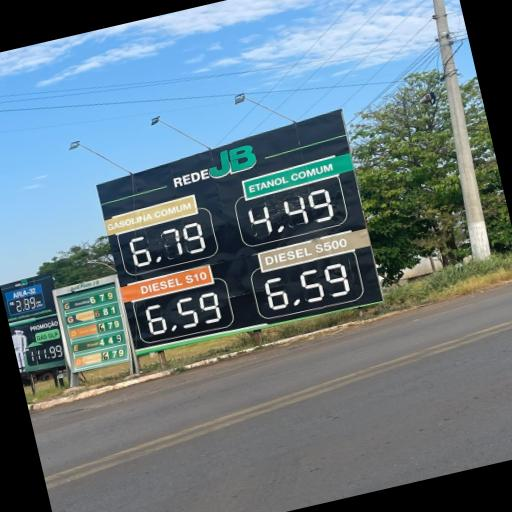ETANOL: (245, 158, 342, 194)
GASOLINA C: (107, 197, 196, 233)
S10: (135, 267, 213, 298)
S500: (262, 233, 353, 270)
placa: (102, 117, 384, 355)
preco: (237, 183, 340, 239), (260, 255, 351, 314), (124, 220, 210, 270), (135, 291, 222, 340)
